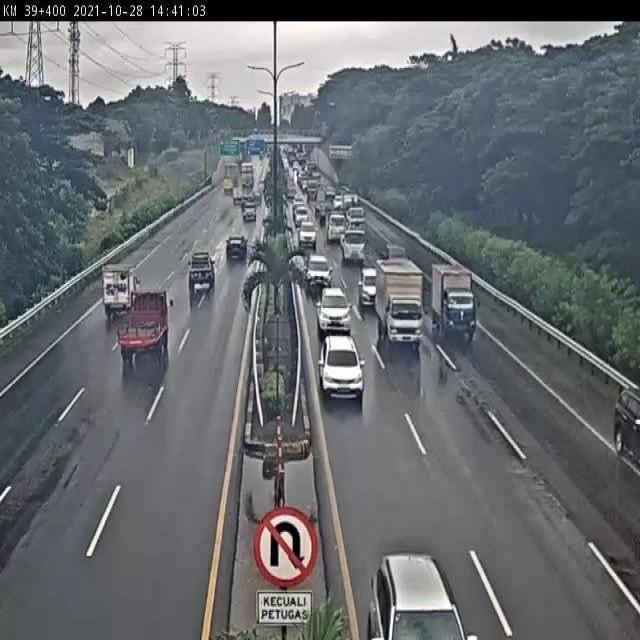car: (319, 336, 364, 403), (317, 287, 352, 332), (187, 251, 218, 292), (305, 254, 333, 290), (359, 267, 377, 308), (225, 233, 249, 260)
truck: (374, 257, 424, 352), (117, 289, 171, 364), (431, 260, 477, 343), (101, 267, 138, 320)
